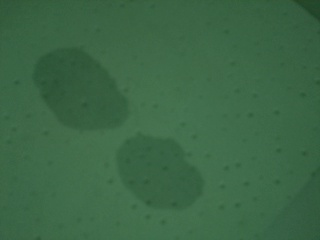Water_detected: (48, 65, 176, 197)
